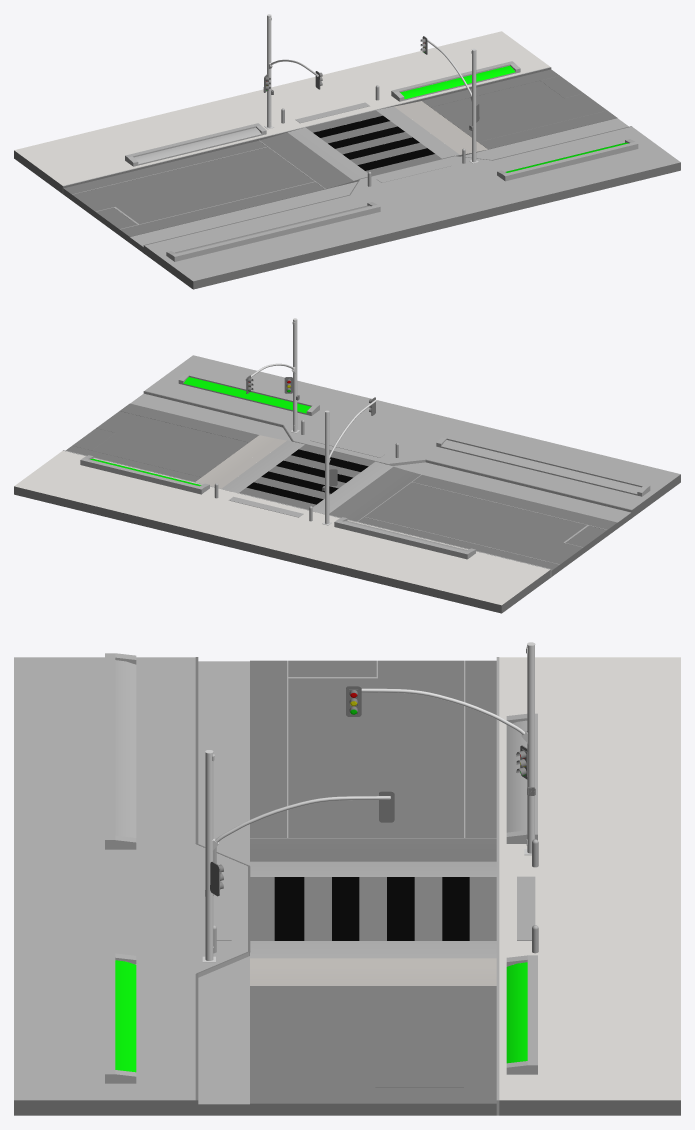
The model's file is crosswalk-part(4).glb.
3 renders of one model, top to bottom at view 1: azimuth 30°, elevation 25°; view 2: azimuth 150°, elevation 25°; view 3: azimuth 270°, elevation 25°, orthographic. The views are drawn at different scales.
Parts seen in each view (by area): view 1: crosswalk-part; view 2: crosswalk-part; view 3: crosswalk-part.
Boxes of the visible parts, box(x1,y1,x2,y2) form: crosswalk-part: box(14, 14, 680, 289); crosswalk-part: box(14, 318, 680, 613); crosswalk-part: box(14, 642, 680, 1115).
Bounding box in the file's own units: 40.32 × 9.49 × 25.64.
